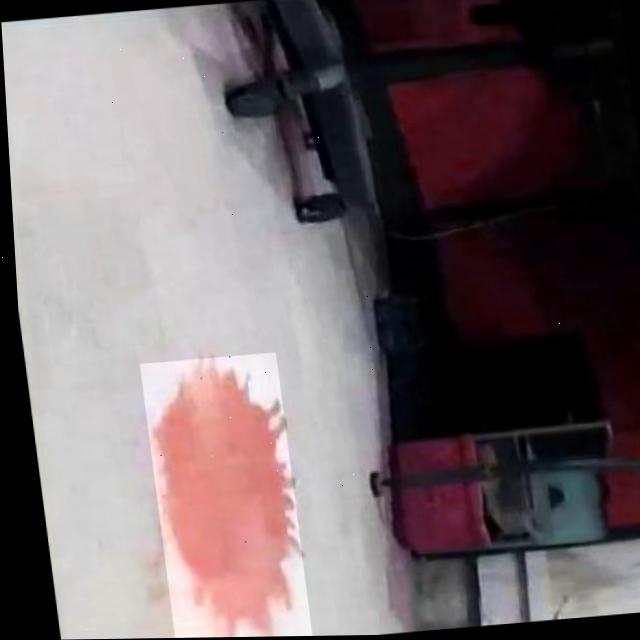spillage: (141, 359, 292, 638)
